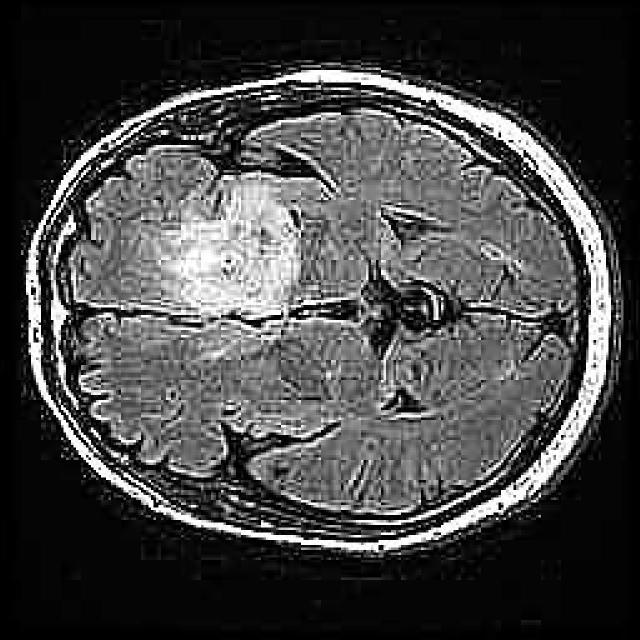tumor: (168, 182, 298, 315)
